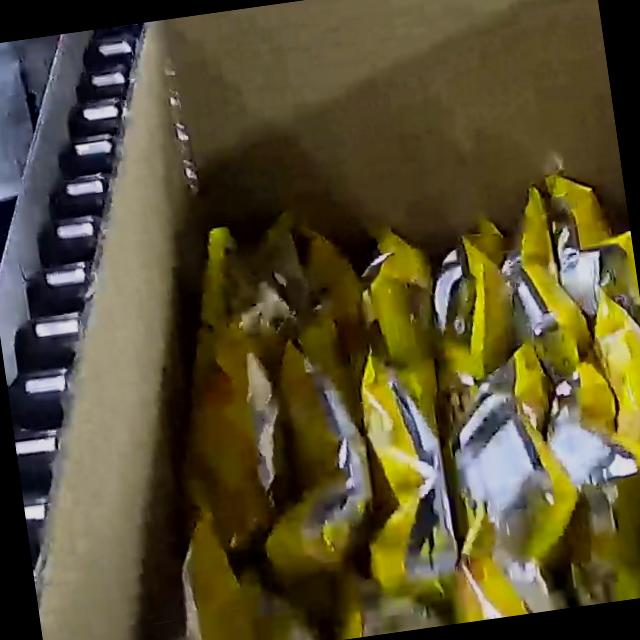salted: (133, 154, 640, 640)
